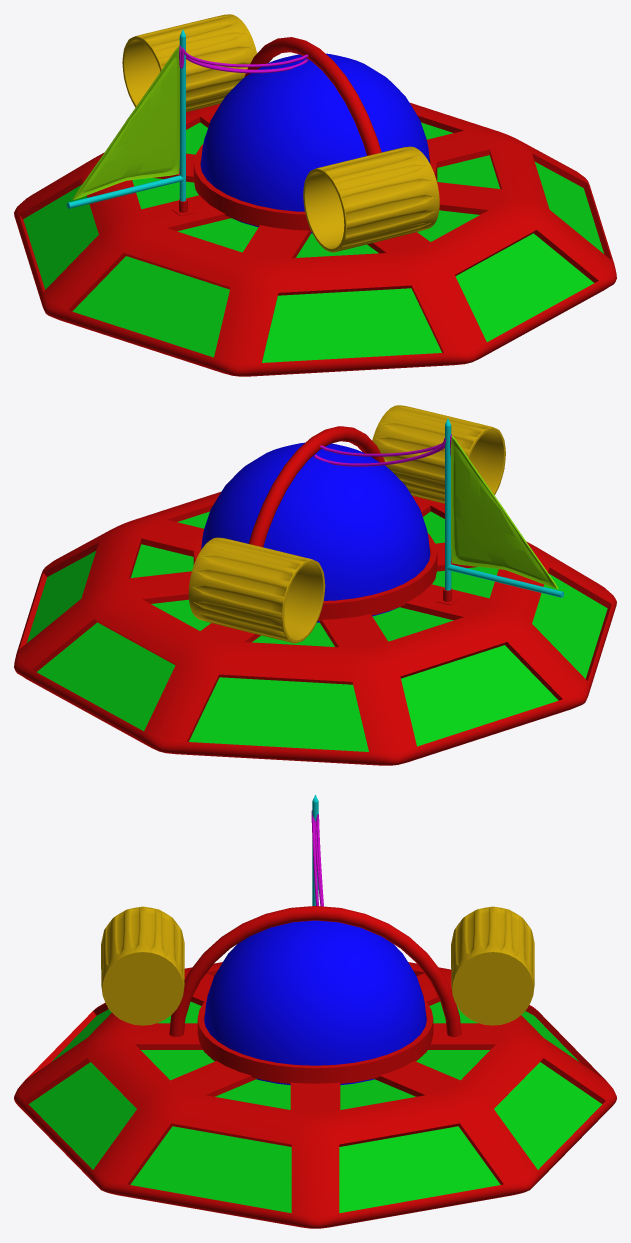
File: Враг2.fbx
3 renders of one model, top to bottom at view 1: azimuth 30°, elevation 25°; view 2: azimuth 150°, elevation 25°; view 3: azimuth 270°, elevation 25°, orthographic. The views are drawn at different scales.
Visible parts, largest first — view 1: Cylinder_4, Capsule, Subdivision_Surface, Subdivision_Surface_2, Torus, Tube, Topowire_1, Cylinder_1, Cylinder_2; view 2: Cylinder_4, Capsule, Subdivision_Surface, Subdivision_Surface_2, Torus, Tube, Cylinder_1, Topowire_1, Cylinder_2; view 3: Cylinder_4, Capsule, Subdivision_Surface, Torus, Tube, Topowire_1.
Part boxes in pixels (x1,y1,x2,y2): Cylinder_4: (14,103,616,376); Capsule: (200,53,429,233); Subdivision_Surface: (122,14,439,252); Subdivision_Surface_2: (72,46,179,199); Torus: (244,37,381,155); Tube: (193,144,437,232); Topowire_1: (179,45,308,73); Cylinder_1: (179,29,185,201); Cylinder_2: (66,175,183,208); Cylinder_4: (14,492,616,765); Capsule: (201,442,430,622); Subdivision_Surface: (188,405,505,643); Subdivision_Surface_2: (451,435,558,588); Torus: (248,426,386,547); Tube: (193,533,437,621); Cylinder_1: (445,418,451,590); Topowire_1: (313,434,451,466); Cylinder_2: (447,564,564,597); Cylinder_4: (14,962,616,1228); Capsule: (204,920,426,1085); Subdivision_Surface: (101,906,534,1025); Torus: (169,906,461,1036); Tube: (197,1000,433,1083); Topowire_1: (311,810,323,906).
Size of the model in its own units: 195 by 110 by 195.
